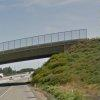Bridge: (1, 33, 90, 59)
